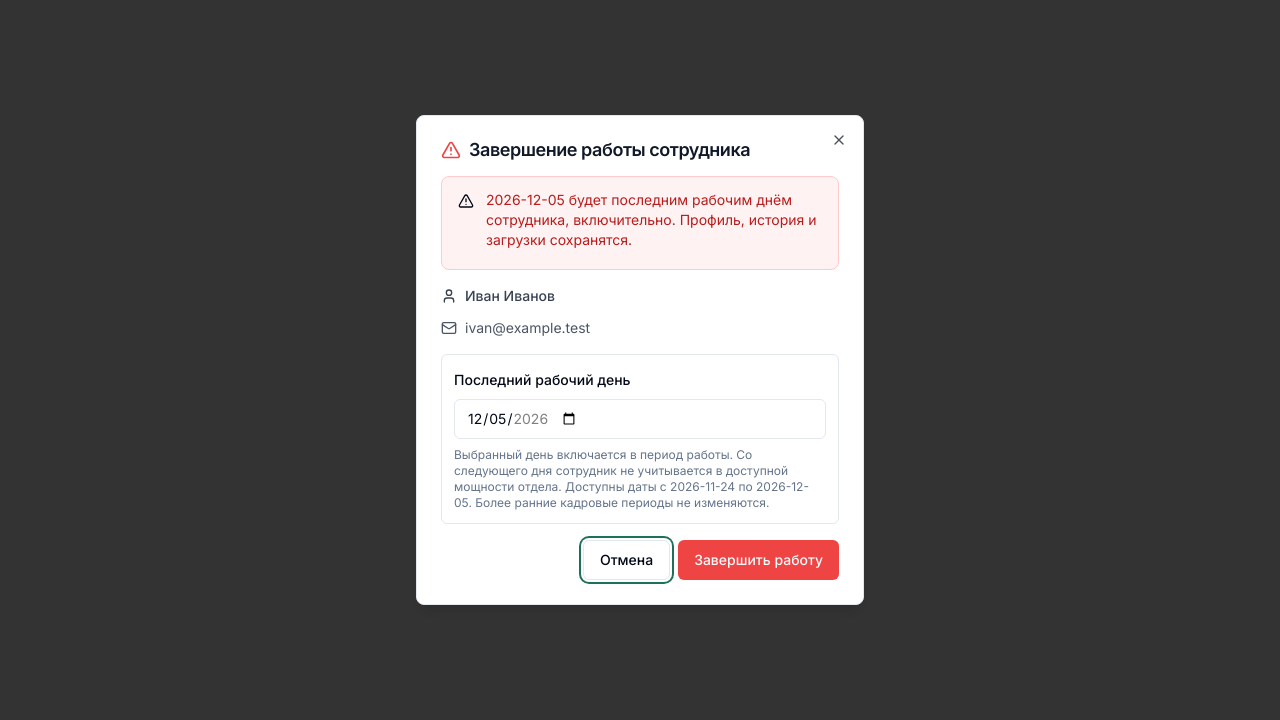
it: employment finish confirmation › confirms the selected last working day and freezes its period token
This screenshot has width=1280, height=720.
Later steps or results of the test are not shown.
In the date field labelled "Последний рабочий день": (640, 419) [454,399,826,439], type "2026-12-02"
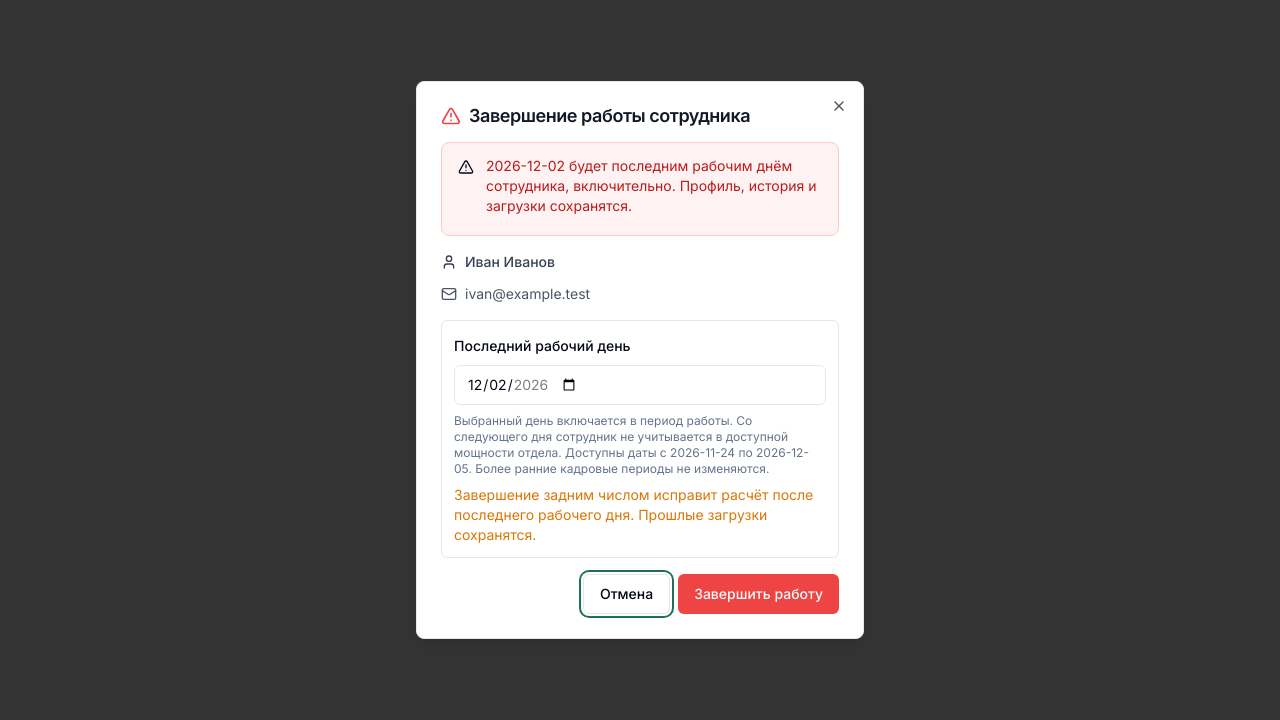
Now the text "Завершение задним числом" is shown, box [454,486,813,543]
Click the button "Завершить работу": (759, 594) [678,574,839,614]
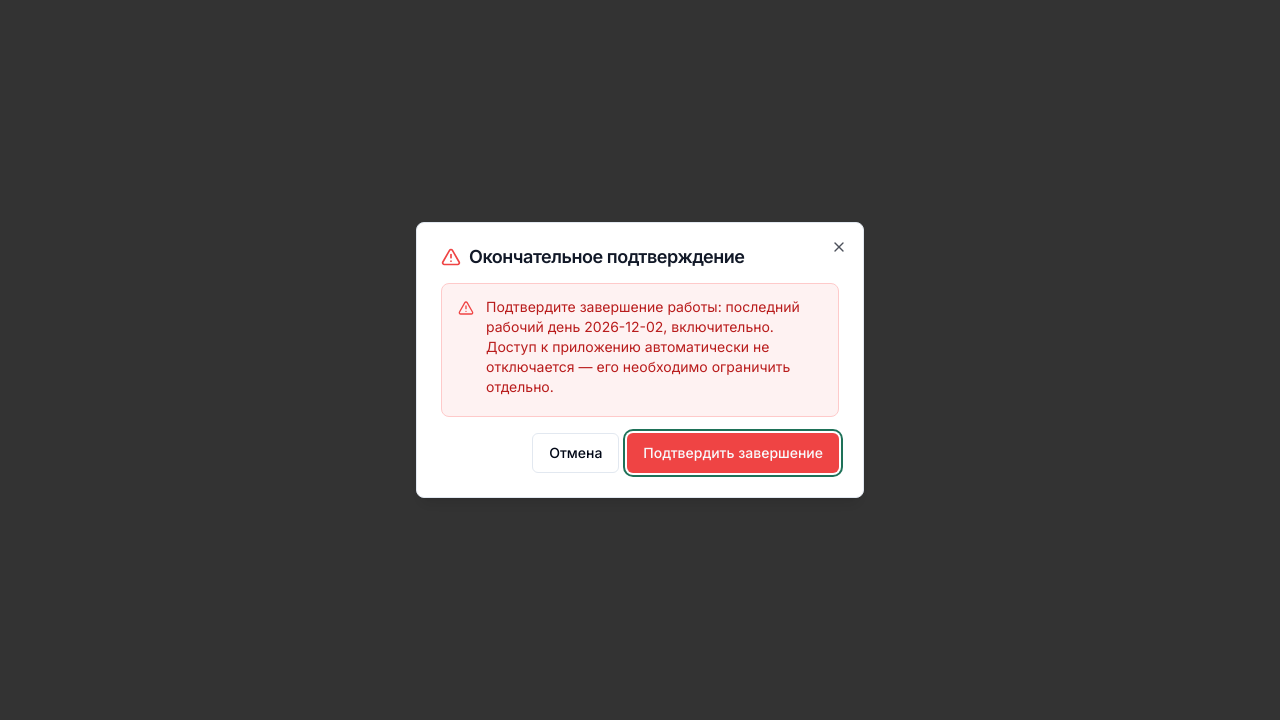
Now the text "Подтвердите завершение работы:" shows "2026-12-02", box [486,298,800,395]
